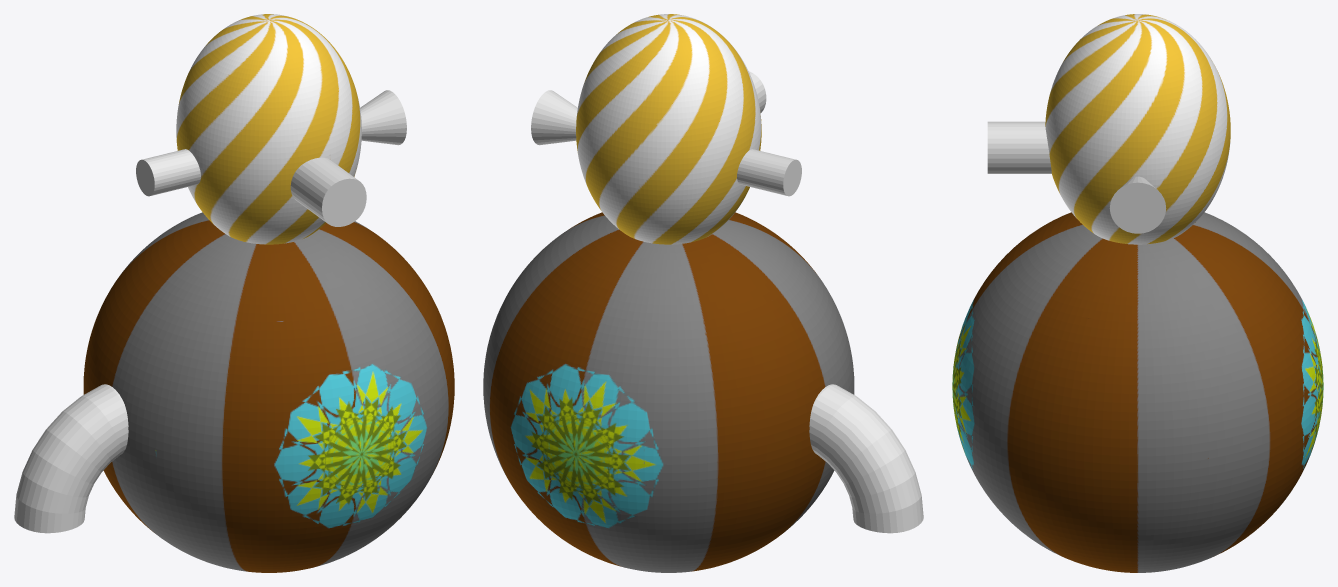
Rendered from BOD0_BMC0_BCC3_BPT2_FRC23_HEA2_HMC6_HCC2_HPT3_ELT1_ERT3_ELL1_ERL2_AP1_AAL2_AAR0_BEK1.fbx.
3 renders of one model, left to right at view 1: azimuth 30°, elevation 25°; view 2: azimuth 150°, elevation 25°; view 3: azimuth 270°, elevation 25°, orthographic.
Parts seen in each view (by area): view 1: Body, Arm, Beak, Ear, Ear.001; view 2: Body, Arm, Ear, Ear.001; view 3: Body, Beak, Ear.001.
Boxes of the visible parts, left/top/right/bottom form: Body: left=83, top=14, right=454, bottom=572; Arm: left=14, top=384, right=128, bottom=533; Beak: left=290, top=157, right=366, bottom=226; Ear: left=136, top=149, right=200, bottom=196; Ear.001: left=360, top=90, right=406, bottom=145; Body: left=483, top=14, right=854, bottom=572; Arm: left=809, top=384, right=923, bottom=533; Ear: left=737, top=149, right=801, bottom=196; Ear.001: left=531, top=90, right=577, bottom=145; Body: left=952, top=14, right=1323, bottom=572; Beak: left=987, top=121, right=1051, bottom=173; Ear.001: left=1109, top=176, right=1166, bottom=233.
Bounding box in the file's own units: 62.99 × 78.65 × 49.36.
Materials: 1 (1 with a texture image).
